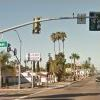Traffic light: (27, 10, 42, 39)
